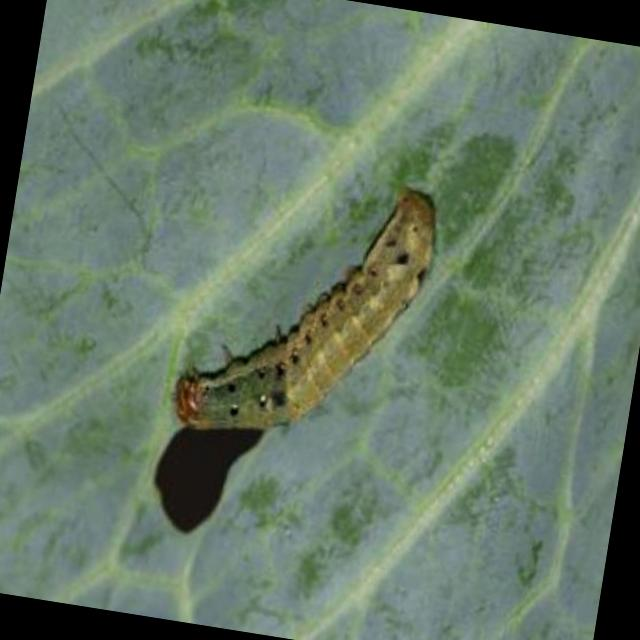Tobacco cutworm: (109, 137, 492, 515)
